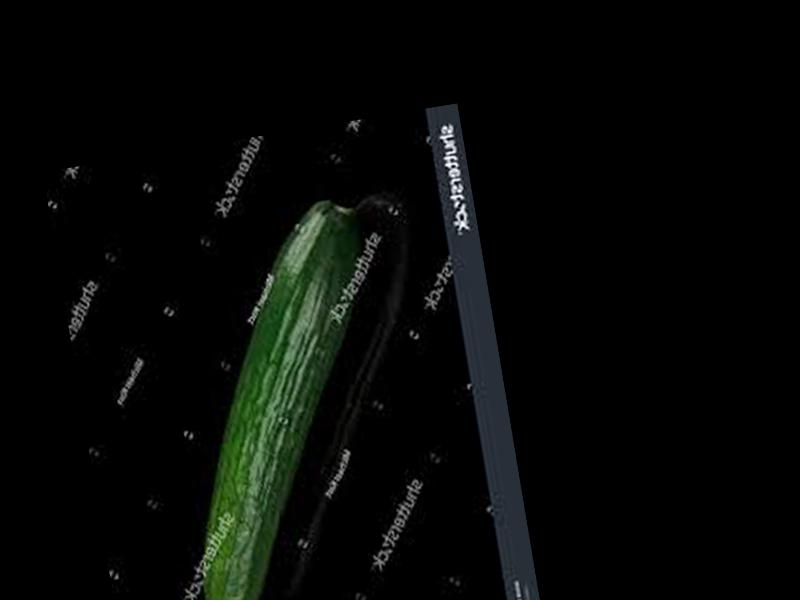Cucumber: (142, 195, 425, 600)
